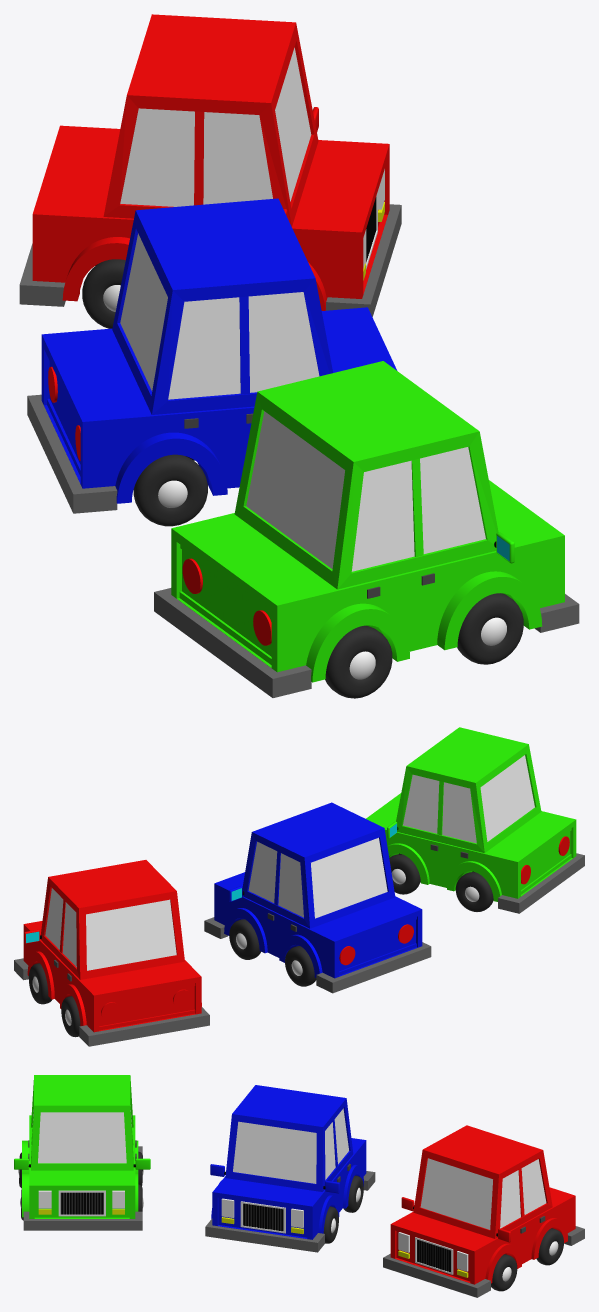
Rendered from cars.FBX.
3 renders of one model, top to bottom at view 1: azimuth 30°, elevation 25°; view 2: azimuth 150°, elevation 25°; view 3: azimuth 270°, elevation 25°, orthographic. The views are drawn at different scales.
Visible parts, largest first — view 1: Object015, Object016, Object017; view 2: Object016, Object015, Object017; view 3: Object017, Object016, Object015.
Boxes of the visible parts, <box> form: Object015: <box>154,361,579,698</box>; Object016: <box>27,198,397,526</box>; Object017: <box>19,14,401,328</box>; Object016: <box>204,802,431,993</box>; Object015: <box>366,727,584,913</box>; Object017: <box>14,860,209,1046</box>; Object017: <box>383,1125,584,1297</box>; Object016: <box>205,1085,375,1252</box>; Object015: <box>14,1075,150,1230</box>.
Size of the model in its own units: 223 by 82.93 by 378.
